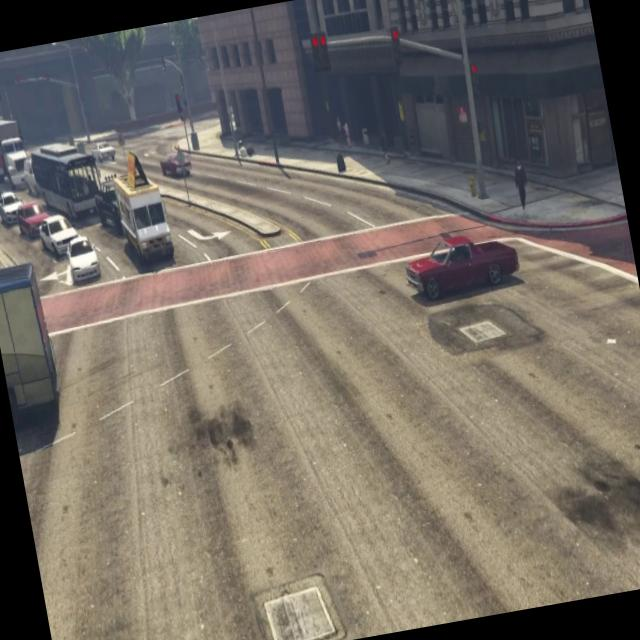Red-Signal: (305, 26, 337, 78), (464, 50, 489, 110), (384, 15, 409, 66)
